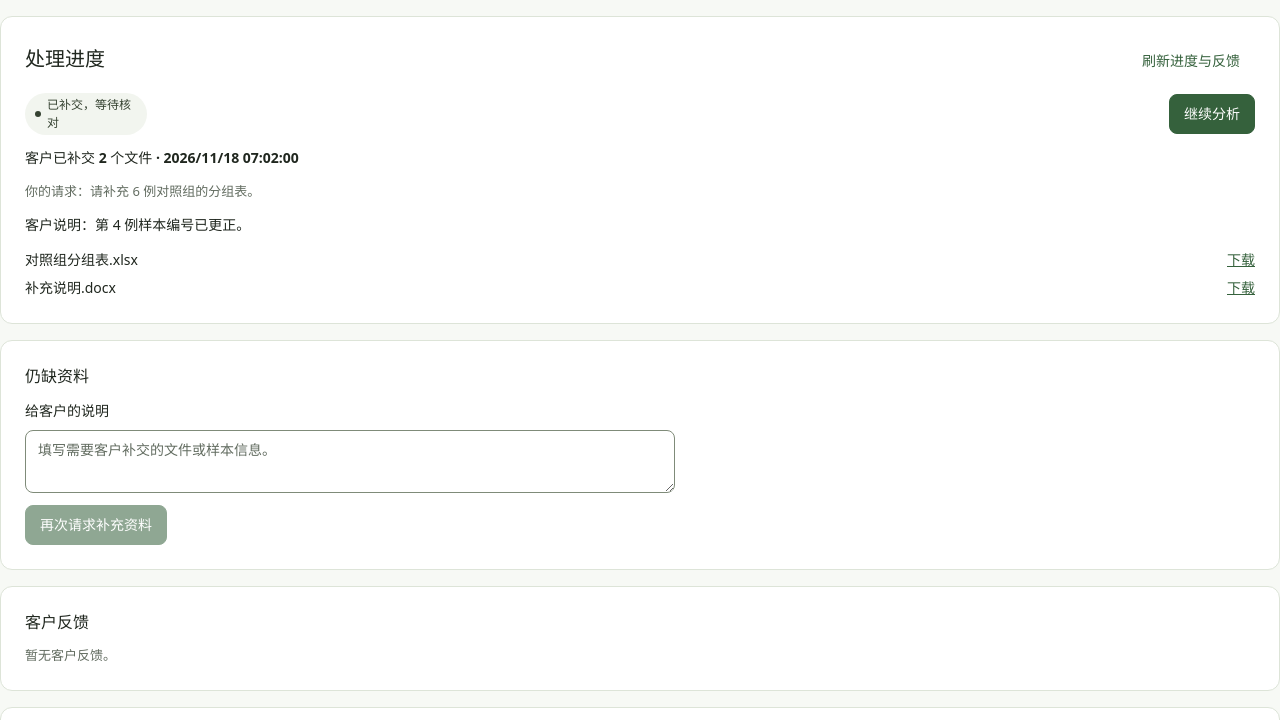
Test case: continues the analysis from a resubmission
The width and height of the screenshot is (1280, 720).
Click the button "继续分析": (1212, 114) [1169,94,1255,134]
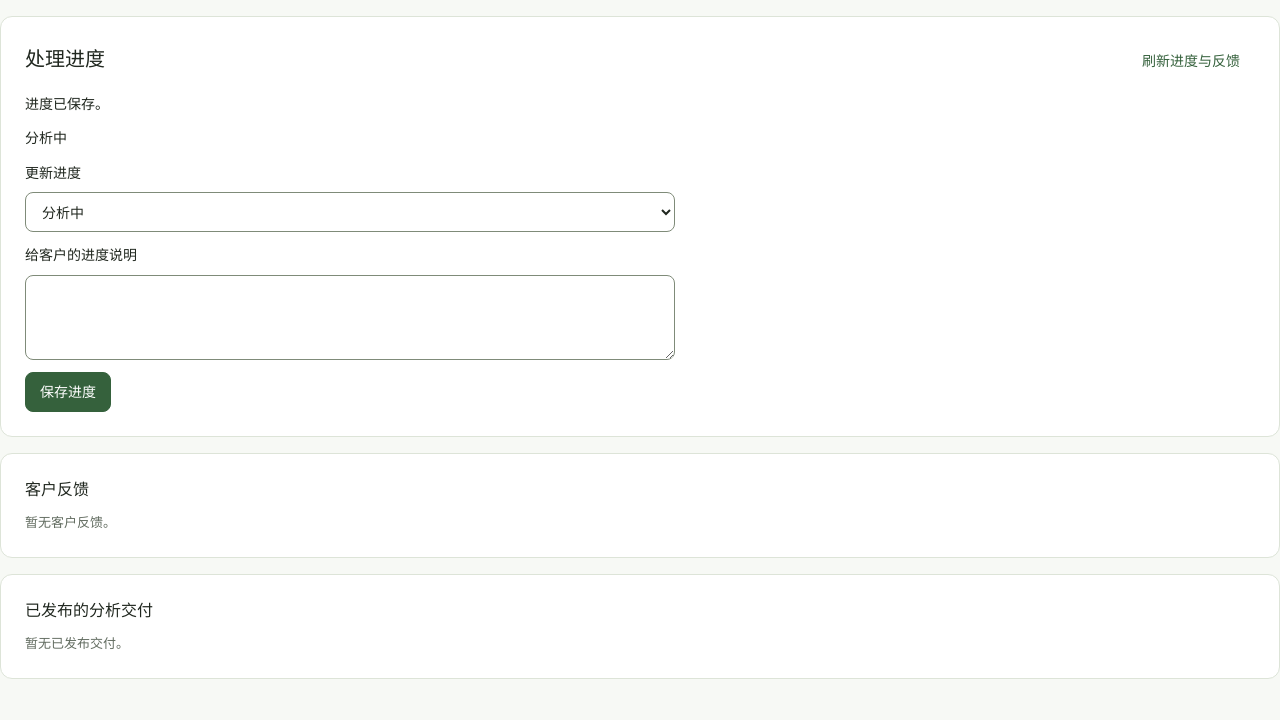
Check: the text "分析中" is shown, box [25,128,67,147]
Check: the button "继续分析" is gone
